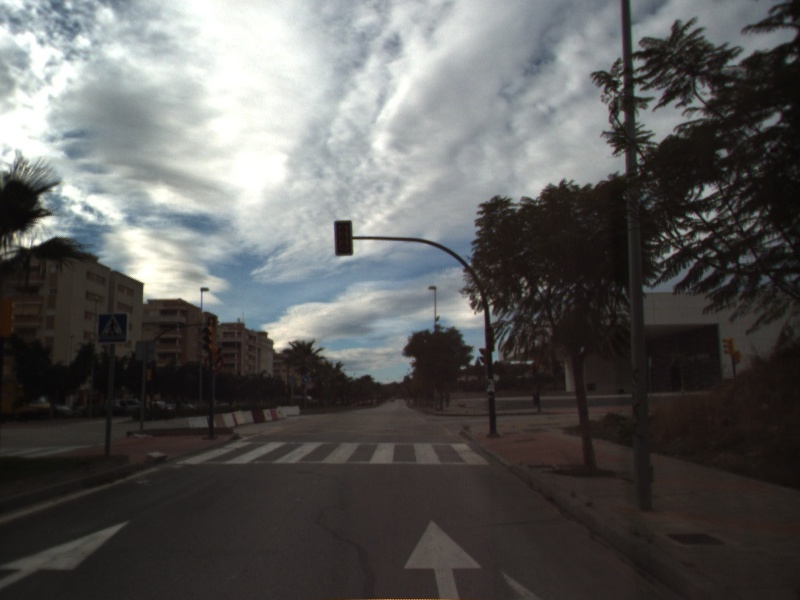STRAIGHT: (1, 518, 133, 591), (401, 518, 485, 600)
